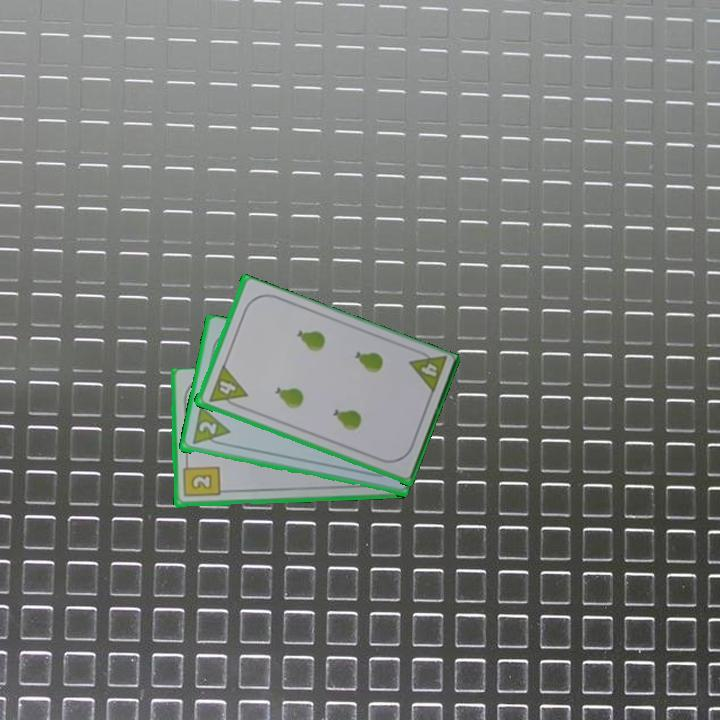2b: (179, 458, 222, 500)
2p: (195, 418, 219, 438)
4p: (405, 345, 450, 398), (205, 363, 249, 412)
